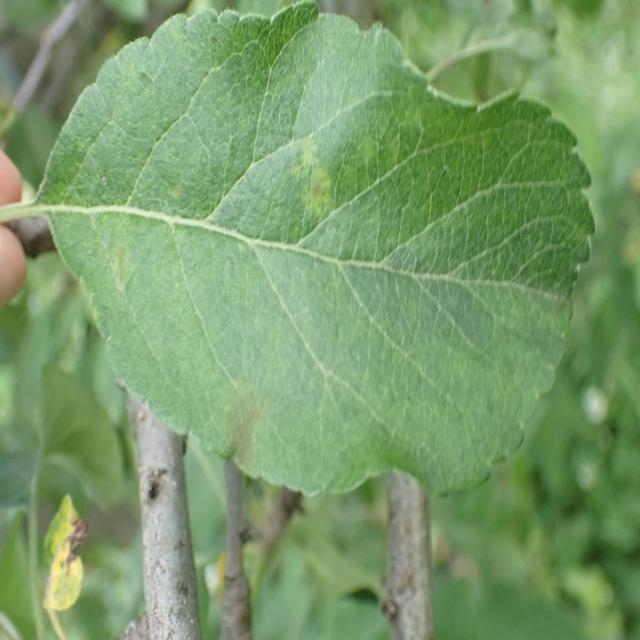scab: (31, 102, 564, 463)
